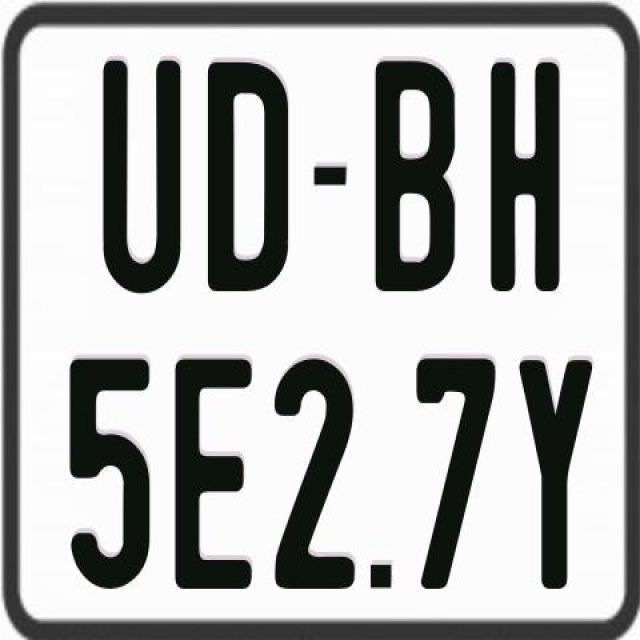2: (270, 354, 354, 586)
5: (69, 356, 155, 594)
7: (412, 357, 495, 597)
B: (376, 61, 463, 301)
D: (206, 58, 288, 288)
E: (173, 355, 251, 587)
H: (490, 63, 560, 294)
U: (98, 58, 182, 292)
Y: (517, 355, 591, 584)
